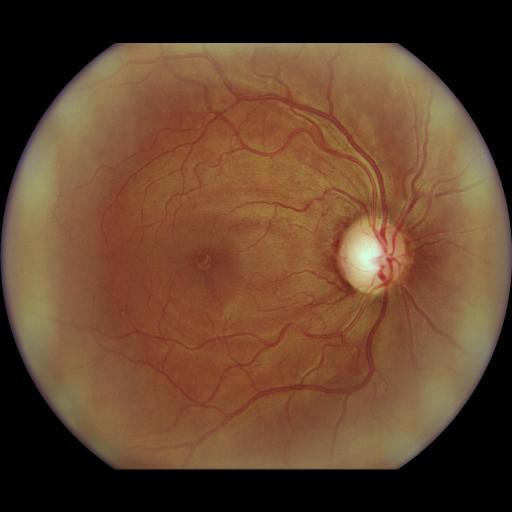Optic Cup: (354, 237, 390, 272)
Optic Disc: (337, 215, 406, 293)
